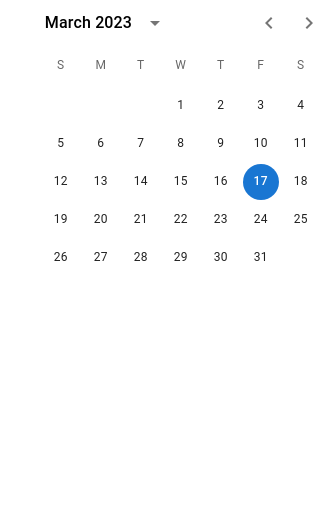
Scenario: handle date clicked and show list › show list of names
This screenshot has width=330, height=528.
Click the cell "15" at (181, 182), box [163, 164, 199, 200]
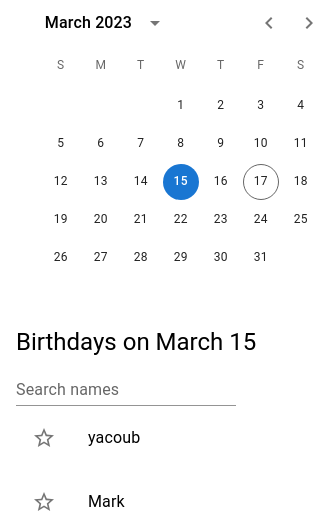
Result: the heading "Birthdays on March 15" is shown at [16, 328, 256, 356]
Result: the text "yacoub" is shown at [88, 428, 140, 447]
Result: the text "Mark" is shown at [88, 492, 125, 511]
